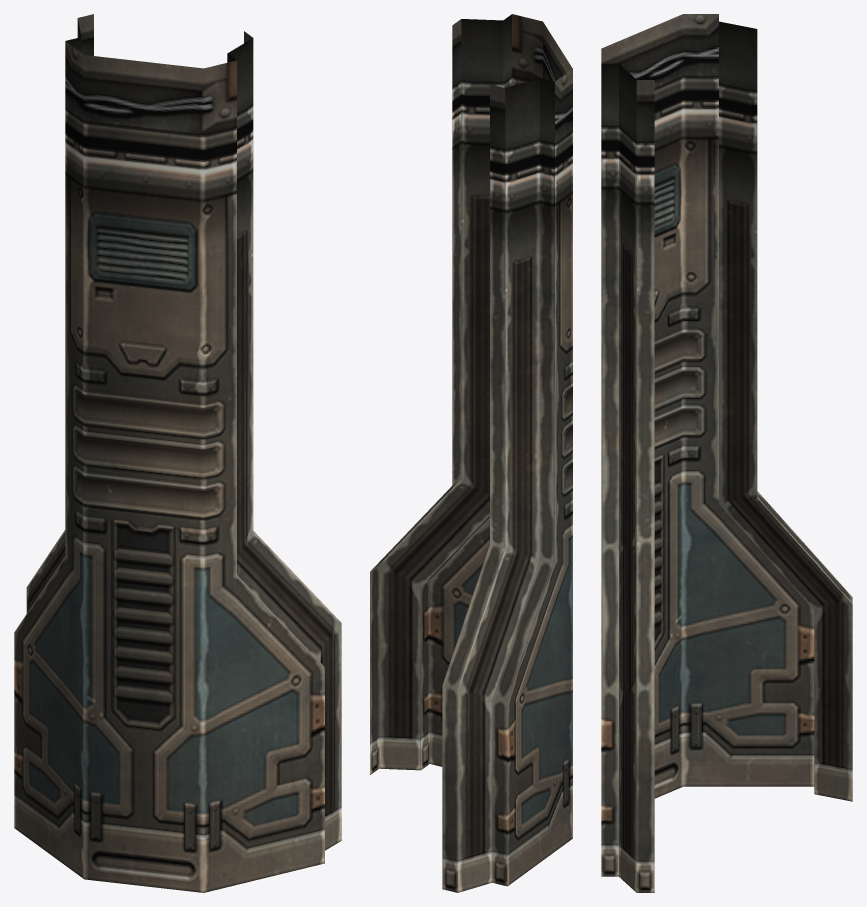
Rendered from mprw_pillar_corner.FBX.
3 renders of one model, left to right at view 1: azimuth 30°, elevation 25°; view 2: azimuth 150°, elevation 25°; view 3: azimuth 270°, elevation 25°, orthographic. The views are drawn at different scales.
Parts seen in each view (by area): view 1: mprw_pillar_corner; view 2: mprw_pillar_corner; view 3: mprw_pillar_corner.
Boxes of the visible parts, <box> form: mprw_pillar_corner: <box>14,14,341,892</box>; mprw_pillar_corner: <box>370,14,572,892</box>; mprw_pillar_corner: <box>601,14,852,892</box>.
Bounding box in the file's own units: 236 × 800 × 236.
Materials: 1 (1 with a texture image).
